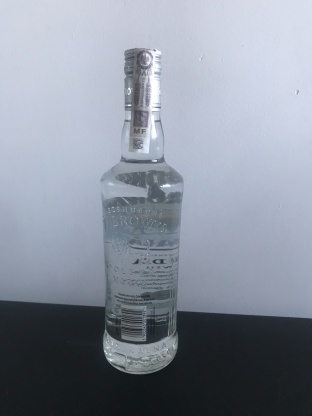nakretka: (121, 43, 164, 115)
